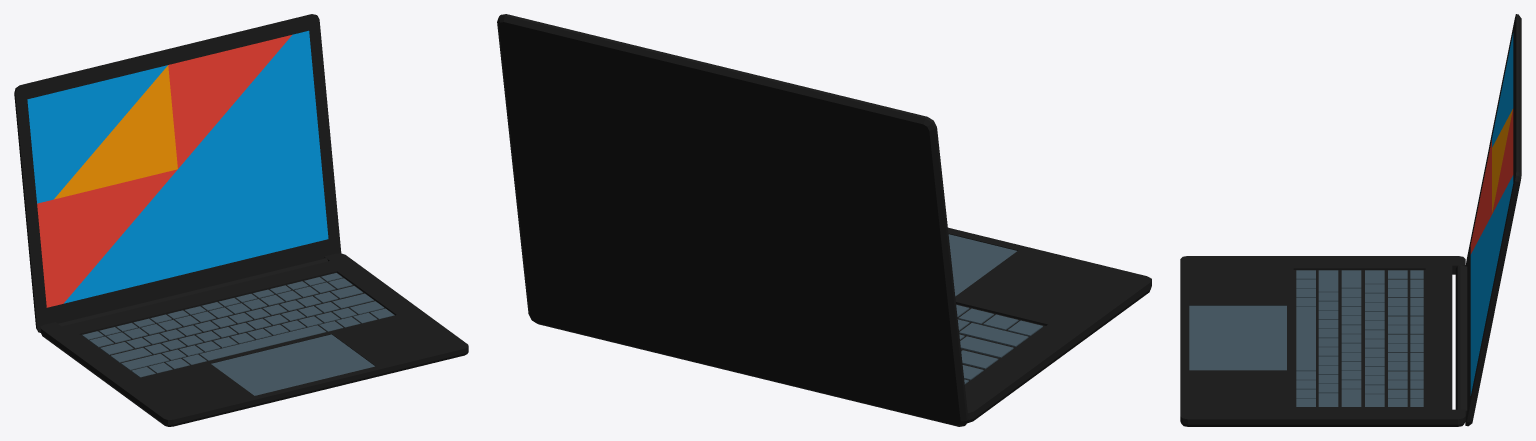
Rendered from Laptop.glb.
3 views of the same model, side by side, from view 1: azimuth 30°, elevation 25°; view 2: azimuth 150°, elevation 25°; view 3: azimuth 270°, elevation 25° (orthographic). The views are drawn at different scales.
Parts seen in each view (by area): view 1: Laptop_01_Cube.025; view 2: Laptop_01_Cube.025; view 3: Laptop_01_Cube.025.
Part boxes in pixels (bbox=[...]): Laptop_01_Cube.025: bbox=[14, 14, 468, 426]; Laptop_01_Cube.025: bbox=[497, 14, 1151, 426]; Laptop_01_Cube.025: bbox=[1180, 14, 1521, 426].
Size of the model in its own units: 13.56 by 9.86 by 11.97.
